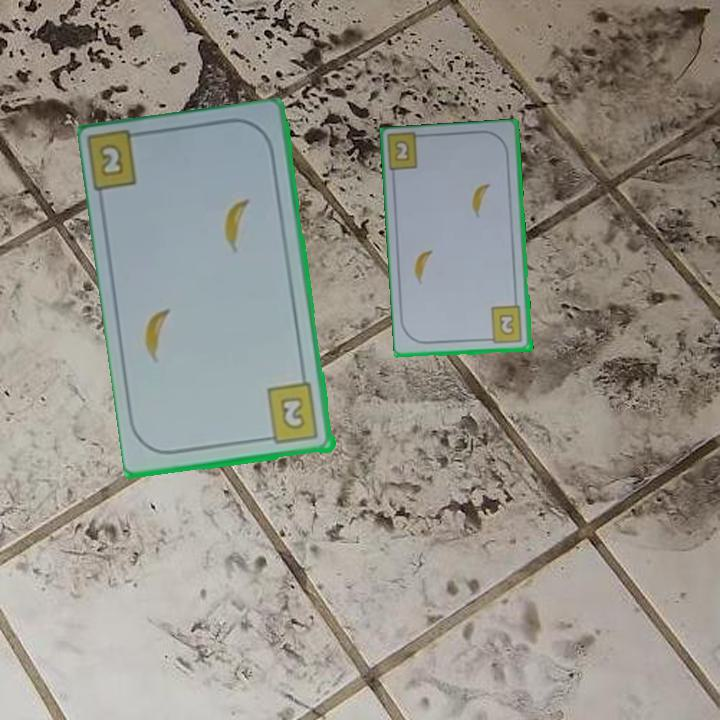2b: (86, 128, 151, 197), (261, 380, 322, 447), (483, 303, 525, 347), (391, 137, 413, 164)
